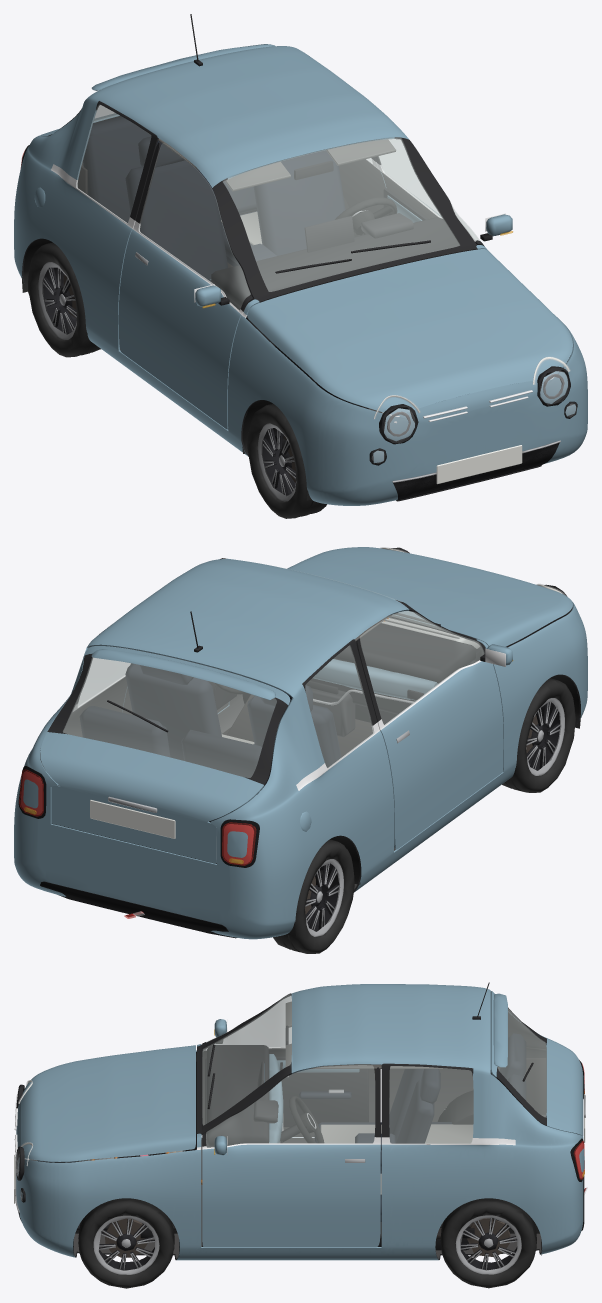
Rendered from fiat500e_lod.glb.
3 views of the same model, one above another, from view 1: azimuth 30°, elevation 25°; view 2: azimuth 150°, elevation 25°; view 3: azimuth 270°, elevation 25° (orthographic). The views are drawn at different scales.
Visible parts, largest first — view 1: Body, Hood, Windshield, Door_FR, Door_FR_Glass, Seat_FR_Back, Dash_Top, Seat_FL_Back, QuarterGlass, Seat_RR_Back, Wheel_FR_Tire, Wheel_RR_Tire (+12 smaller); view 2: Body, Tailgate, Tailgate_Glass, Door_FR, Hood, Door_FR_Glass, QuarterGlass, Seat_FL_Back, Dash_Top, Wheel_RR_Tire, Wheel_FR_Tire, Seat_RL_Back (+17 smaller); view 3: Body, Door_FL, Hood, Door_FL_Glass, Windshield, QuarterGlass, Dash_Top, Tailgate, Wheel_FL_Tire, Wheel_RL_Tire, Door_FR_Card, Tailgate_Glass (+20 smaller).
Part boxes in pixels (x1,y1,x2,y2): Body: [14, 46, 587, 505]; Hood: [247, 249, 572, 415]; Windshield: [223, 137, 459, 291]; Door_FR: [118, 142, 252, 429]; Door_FR_Glass: [139, 143, 250, 309]; Seat_FR_Back: [125, 160, 227, 279]; Dash_Top: [211, 217, 459, 306]; Seat_FL_Back: [253, 150, 345, 255]; QuarterGlass: [76, 104, 371, 222]; Seat_RR_Back: [83, 116, 150, 222]; Wheel_FR_Tire: [247, 404, 326, 518]; Wheel_RR_Tire: [28, 242, 100, 357]; Body: [14, 558, 587, 939]; Tailgate: [40, 646, 290, 863]; Tailgate_Glass: [63, 657, 276, 777]; Door_FR: [356, 640, 503, 849]; Hood: [287, 547, 572, 646]; Door_FR_Glass: [360, 611, 484, 724]; QuarterGlass: [78, 645, 373, 767]; Seat_FL_Back: [125, 663, 221, 760]; Dash_Top: [334, 623, 475, 683]; Wheel_RR_Tire: [273, 839, 354, 953]; Wheel_FR_Tire: [502, 678, 575, 792]; Seat_RL_Back: [79, 706, 170, 757]; Body: [16, 984, 583, 1260]; Door_FL: [202, 1067, 380, 1247]; Hood: [21, 1045, 195, 1162]; Door_FL_Glass: [206, 1065, 374, 1147]; Windshield: [202, 994, 291, 1125]; QuarterGlass: [389, 1066, 473, 1143]; Dash_Top: [207, 1045, 269, 1146]; Tailgate: [490, 991, 583, 1136]; Wheel_FL_Tire: [78, 1198, 174, 1288]; Wheel_RL_Tire: [440, 1198, 536, 1288]; Door_FR_Card: [276, 1056, 368, 1127]; Tailgate_Glass: [498, 1008, 546, 1117].
Size of the model in its own units: 1.92 by 1.79 by 3.68.
